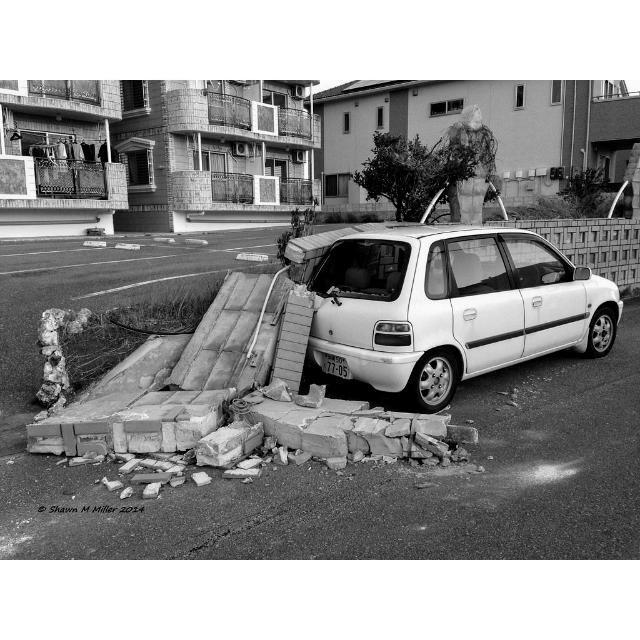Rear-windscreen-Damage: (315, 235, 406, 297)
